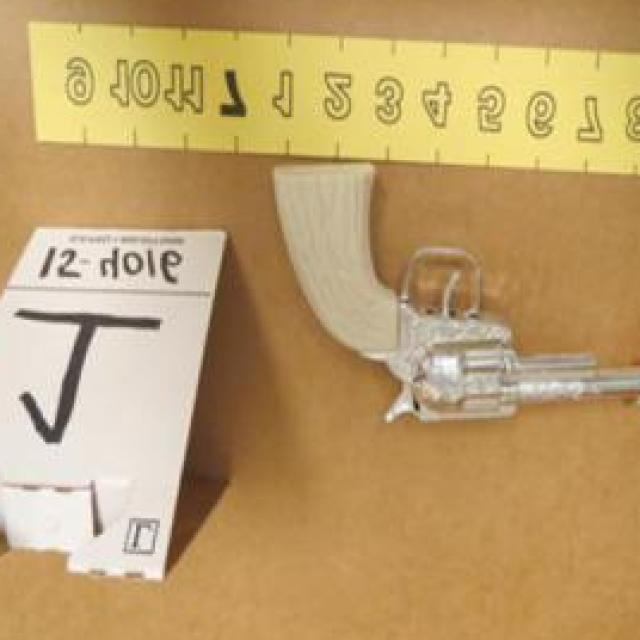pistol: (265, 165, 640, 427)
